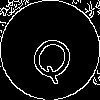Q: (25, 25, 83, 87)
